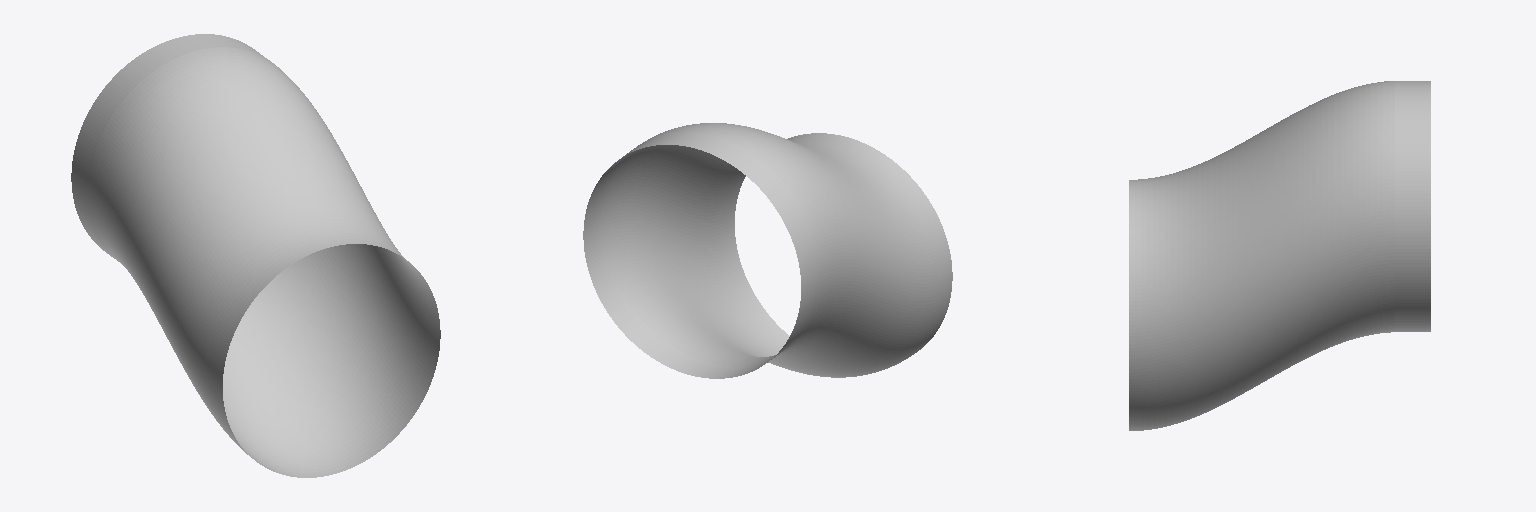
Rendered from tunnel_base_downturned.obj.
The picture shows the model from 3 angles: view 1: azimuth 30°, elevation 25°; view 2: azimuth 150°, elevation 25°; view 3: azimuth 270°, elevation 25°; orthographic projection.
Parts seen in each view (by area): view 1: pCylinder1; view 2: pCylinder1; view 3: pCylinder1.
Part boxes in pixels (bbox=[...]): pCylinder1: bbox=[71, 34, 440, 477]; pCylinder1: bbox=[583, 123, 952, 378]; pCylinder1: bbox=[1129, 81, 1430, 430].
Size of the model in its own units: 4.26 by 6.11 by 5.13.